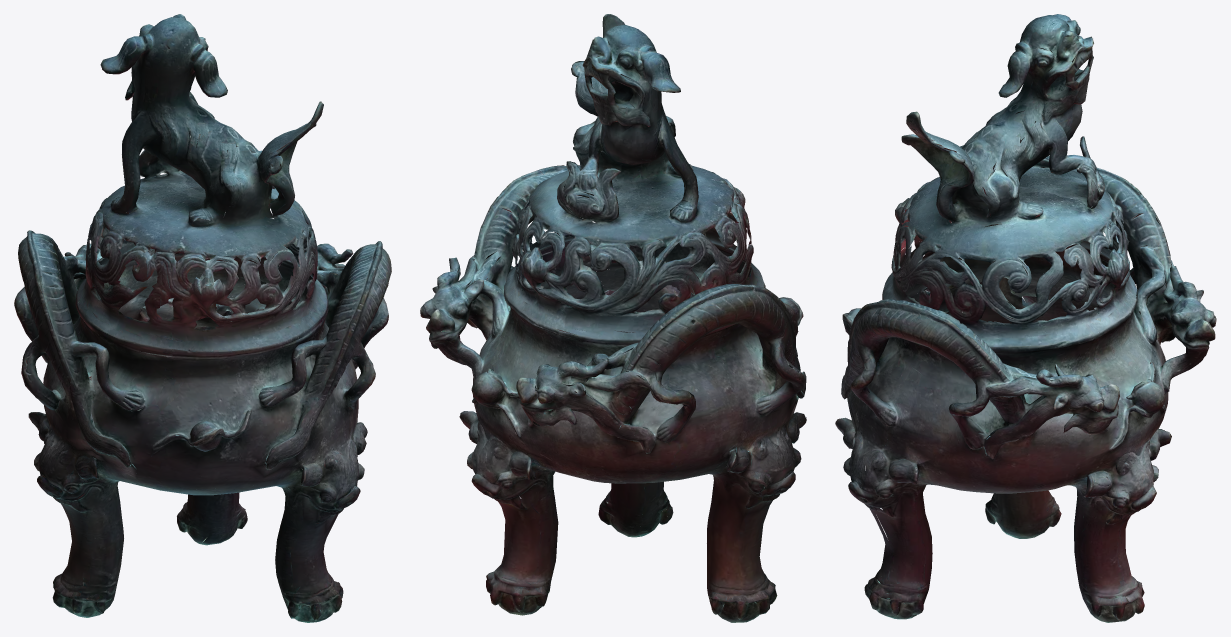
The model's file is chinese_censer.glb.
3 views of the same model, side by side, from view 1: azimuth 30°, elevation 25°; view 2: azimuth 150°, elevation 25°; view 3: azimuth 270°, elevation 25° (orthographic). The views are drawn at different scales.
Parts seen in each view (by area): view 1: Object_3, Object_2; view 2: Object_2, Object_3; view 3: Object_2, Object_3.
Boxes of the visible parts, box(x1,y1,x2,y2) form: Object_3: box(14, 14, 387, 622); Object_2: box(18, 14, 391, 622); Object_2: box(420, 14, 806, 620); Object_3: box(420, 14, 805, 622); Object_2: box(835, 19, 1216, 620); Object_3: box(842, 14, 1212, 622).
Bounding box in the file's own units: 0.4444 × 0.6918 × 0.42.
Materials: 2 (2 with a texture image).
